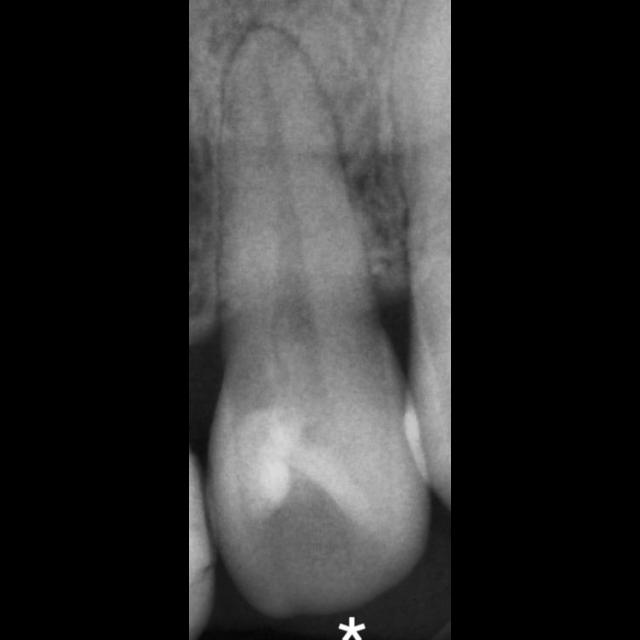tooth: (203, 29, 433, 619)
